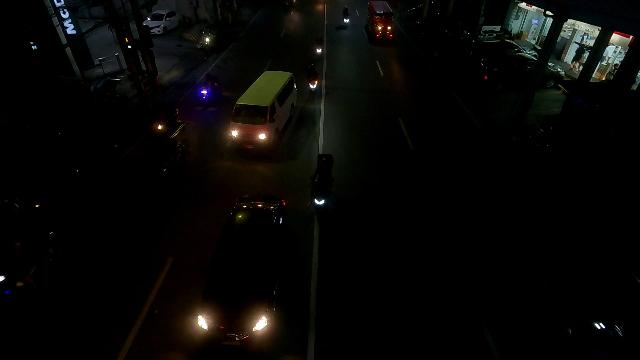car: (141, 6, 184, 37)
jeepney: (365, 0, 397, 44)
motorcycle: (196, 74, 220, 107), (306, 65, 318, 97), (340, 5, 351, 28)
van: (229, 69, 300, 150)
